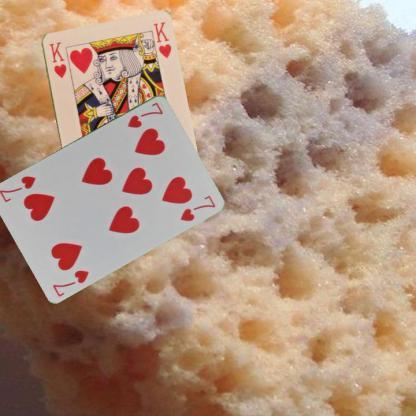7h: (50, 267, 90, 298), (125, 99, 164, 130)
Kh: (47, 38, 68, 80)
